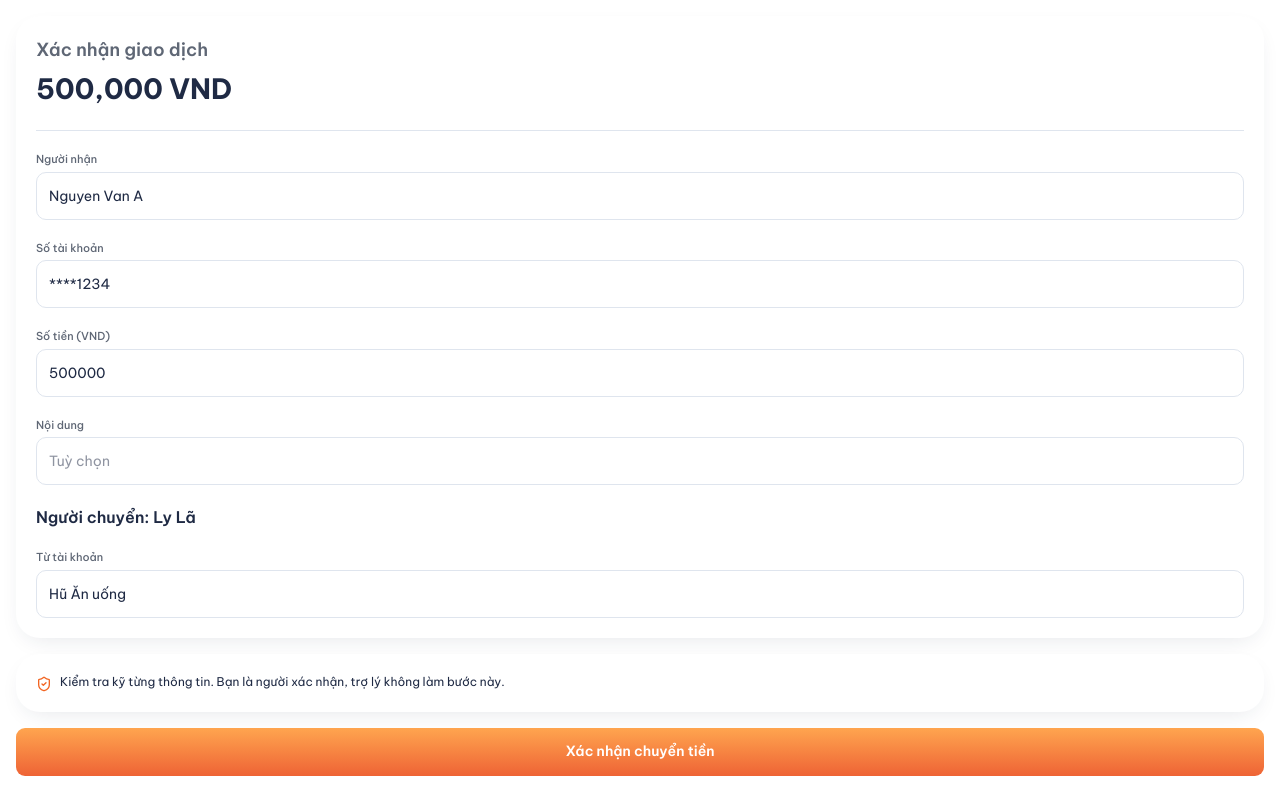
it: TransferConfirm — always create + categorize › a provider failure surfaces an error and stays retryable (no permanent lock)
(page scrolled)
Click the button "Xác nhận chuyển tiền" at [640, 752], box [16, 728, 1264, 776]
(page scrolled)
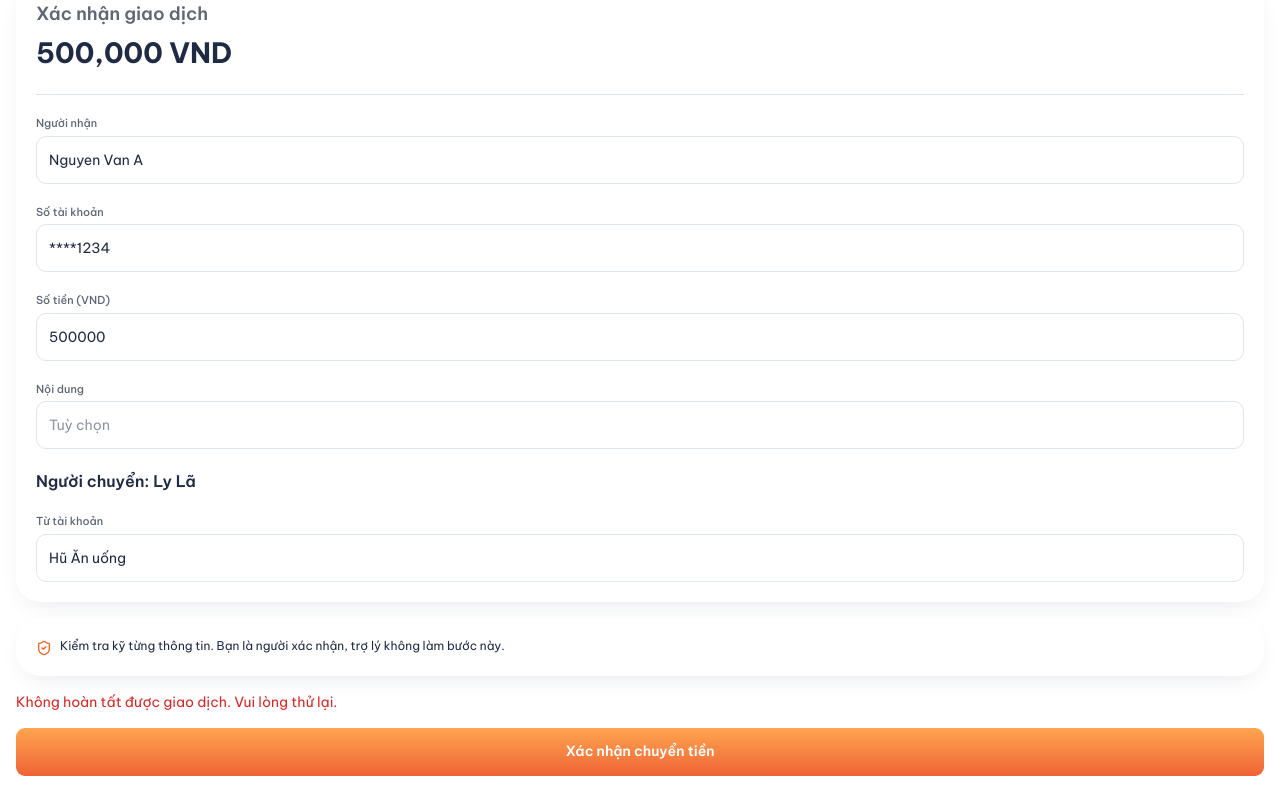
Check: the text "Không hoàn tất được giao dịch. Vui lòng thử lại." is shown, box [16, 692, 337, 710]
Note: Retry now succeeds — the latch was released.
Click the button "Xác nhận chuyển tiền" at [640, 752], box [16, 728, 1264, 776]
(page scrolled)
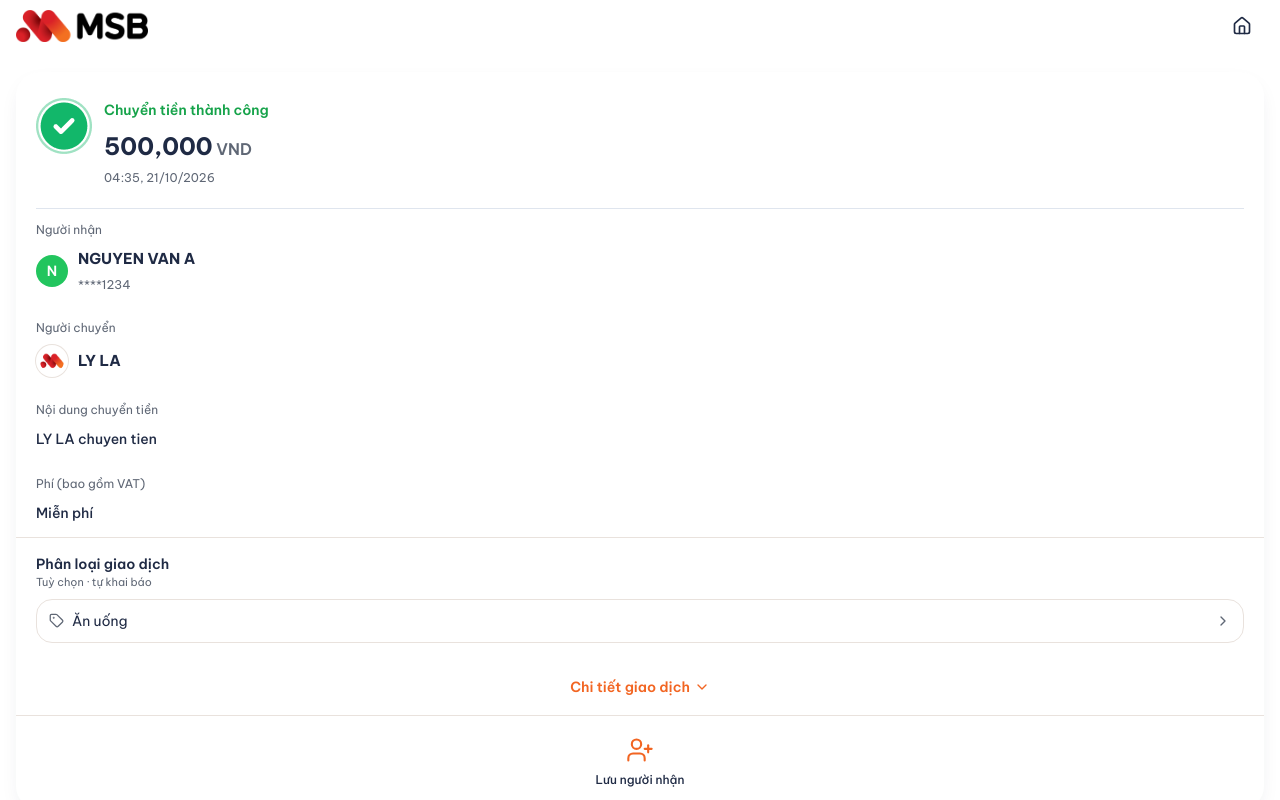
Check: the text "Chuyển tiền thành công" is shown, box [104, 96, 269, 124]
